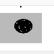correct: (9, 16, 36, 38)
